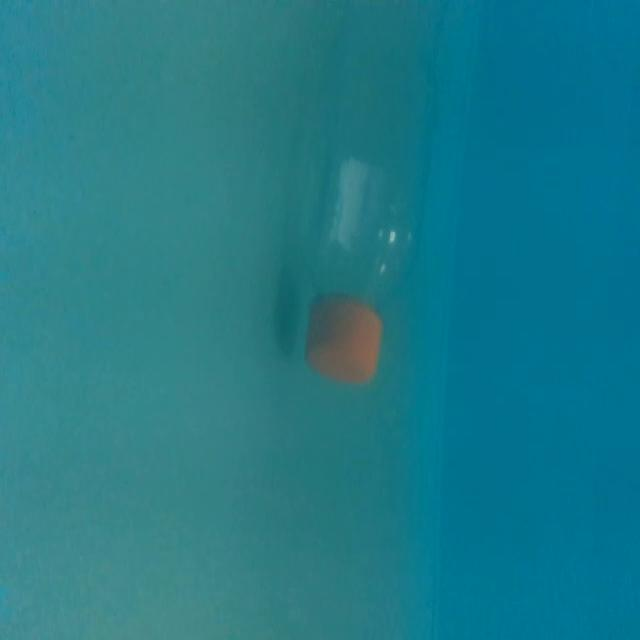plastic bottle: (294, 23, 429, 394)
